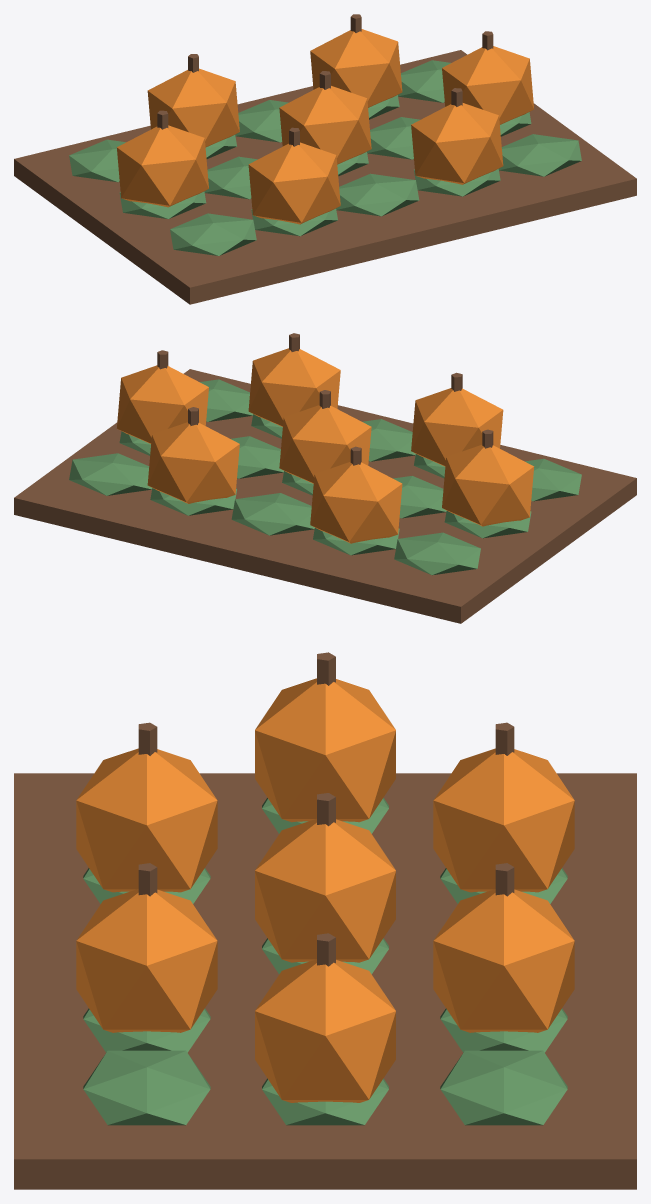
File: nature_pumpkin_patch.glb
The picture shows the model from 3 angles, top to bottom: view 1: azimuth 30°, elevation 25°; view 2: azimuth 150°, elevation 25°; view 3: azimuth 270°, elevation 25°; orthographic projection. The views are drawn at different scales.
Parts seen in each view (by area): view 1: nature_pumpkin_patch; view 2: nature_pumpkin_patch; view 3: nature_pumpkin_patch.
Boxes of the visible parts, x1,y1,x2,y2 form: nature_pumpkin_patch: (14,14,636,304); nature_pumpkin_patch: (14,333,636,623); nature_pumpkin_patch: (14,652,636,1189).
Size of the model in its own units: 2.2 by 0.53 by 1.5.
